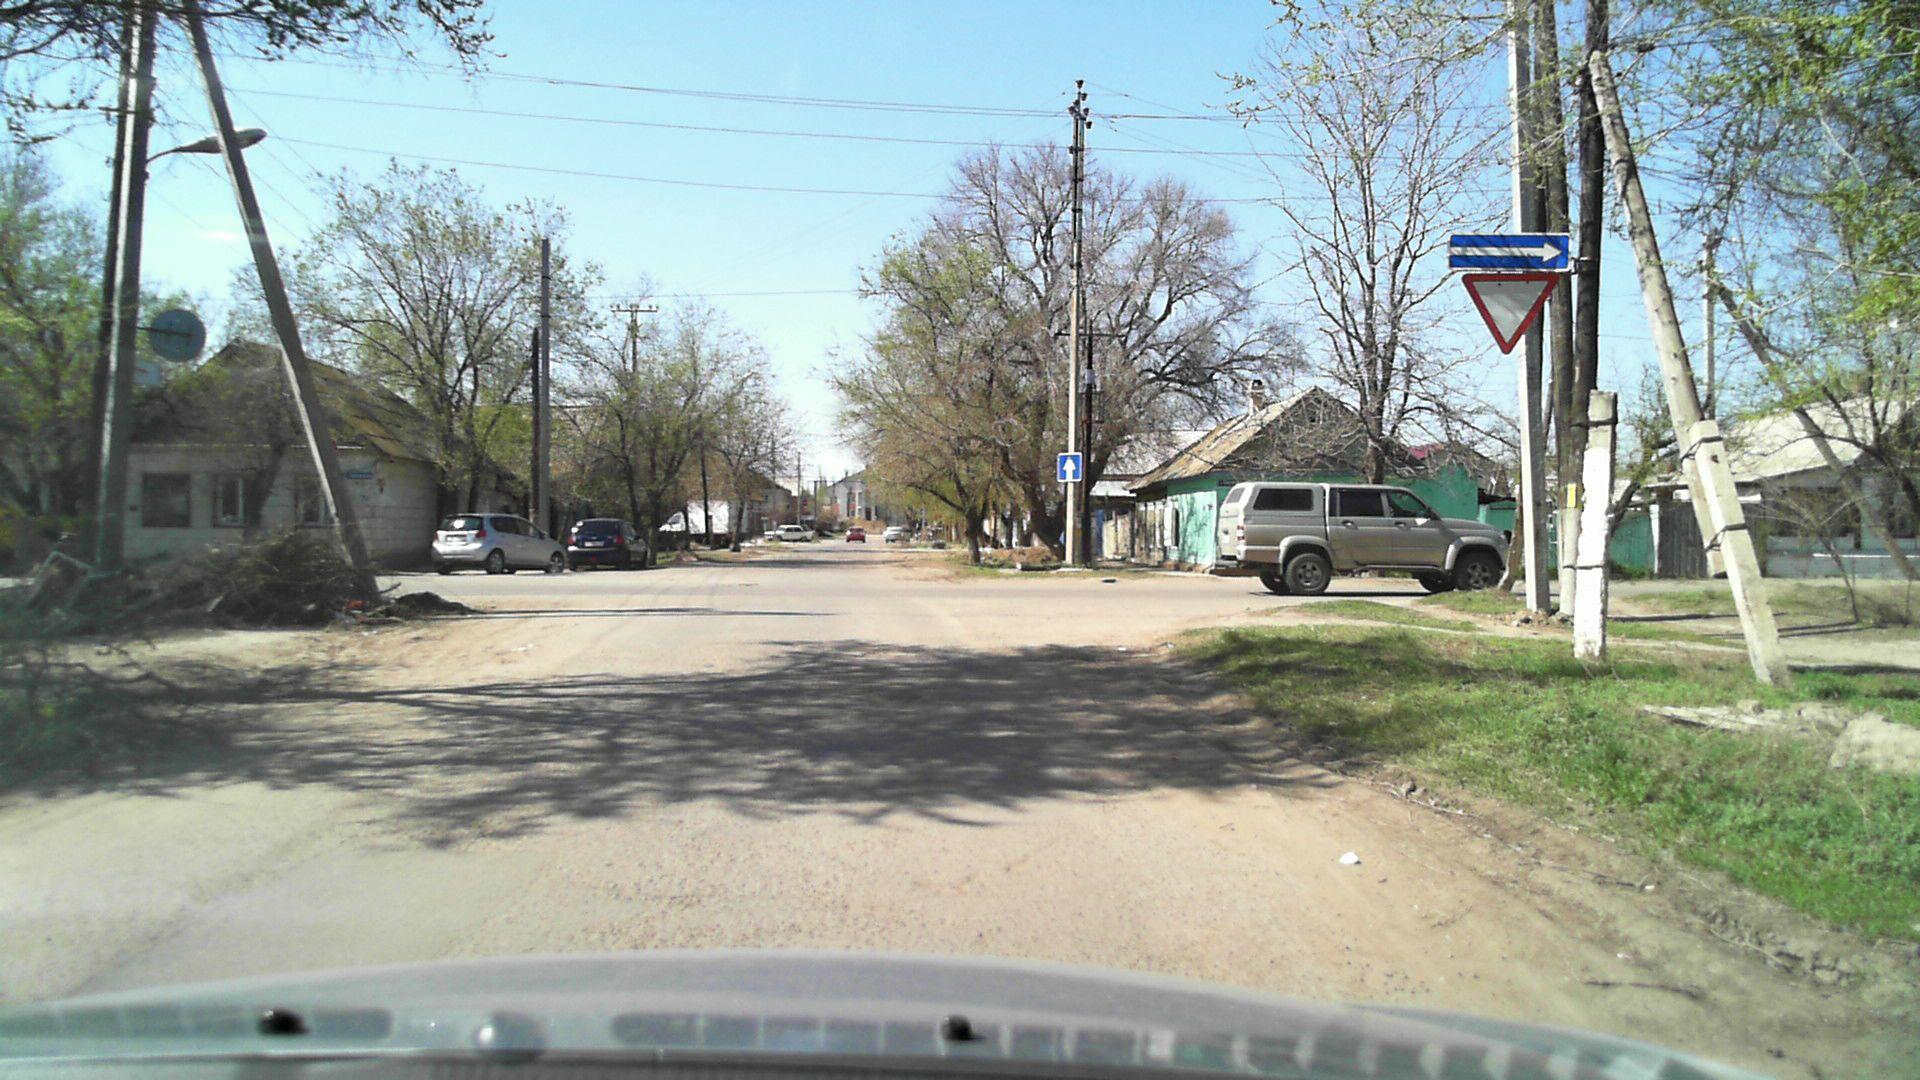2_4: (1458, 272, 1561, 356)
5_5: (1055, 451, 1084, 481)
5_7_1: (1448, 231, 1572, 269)
